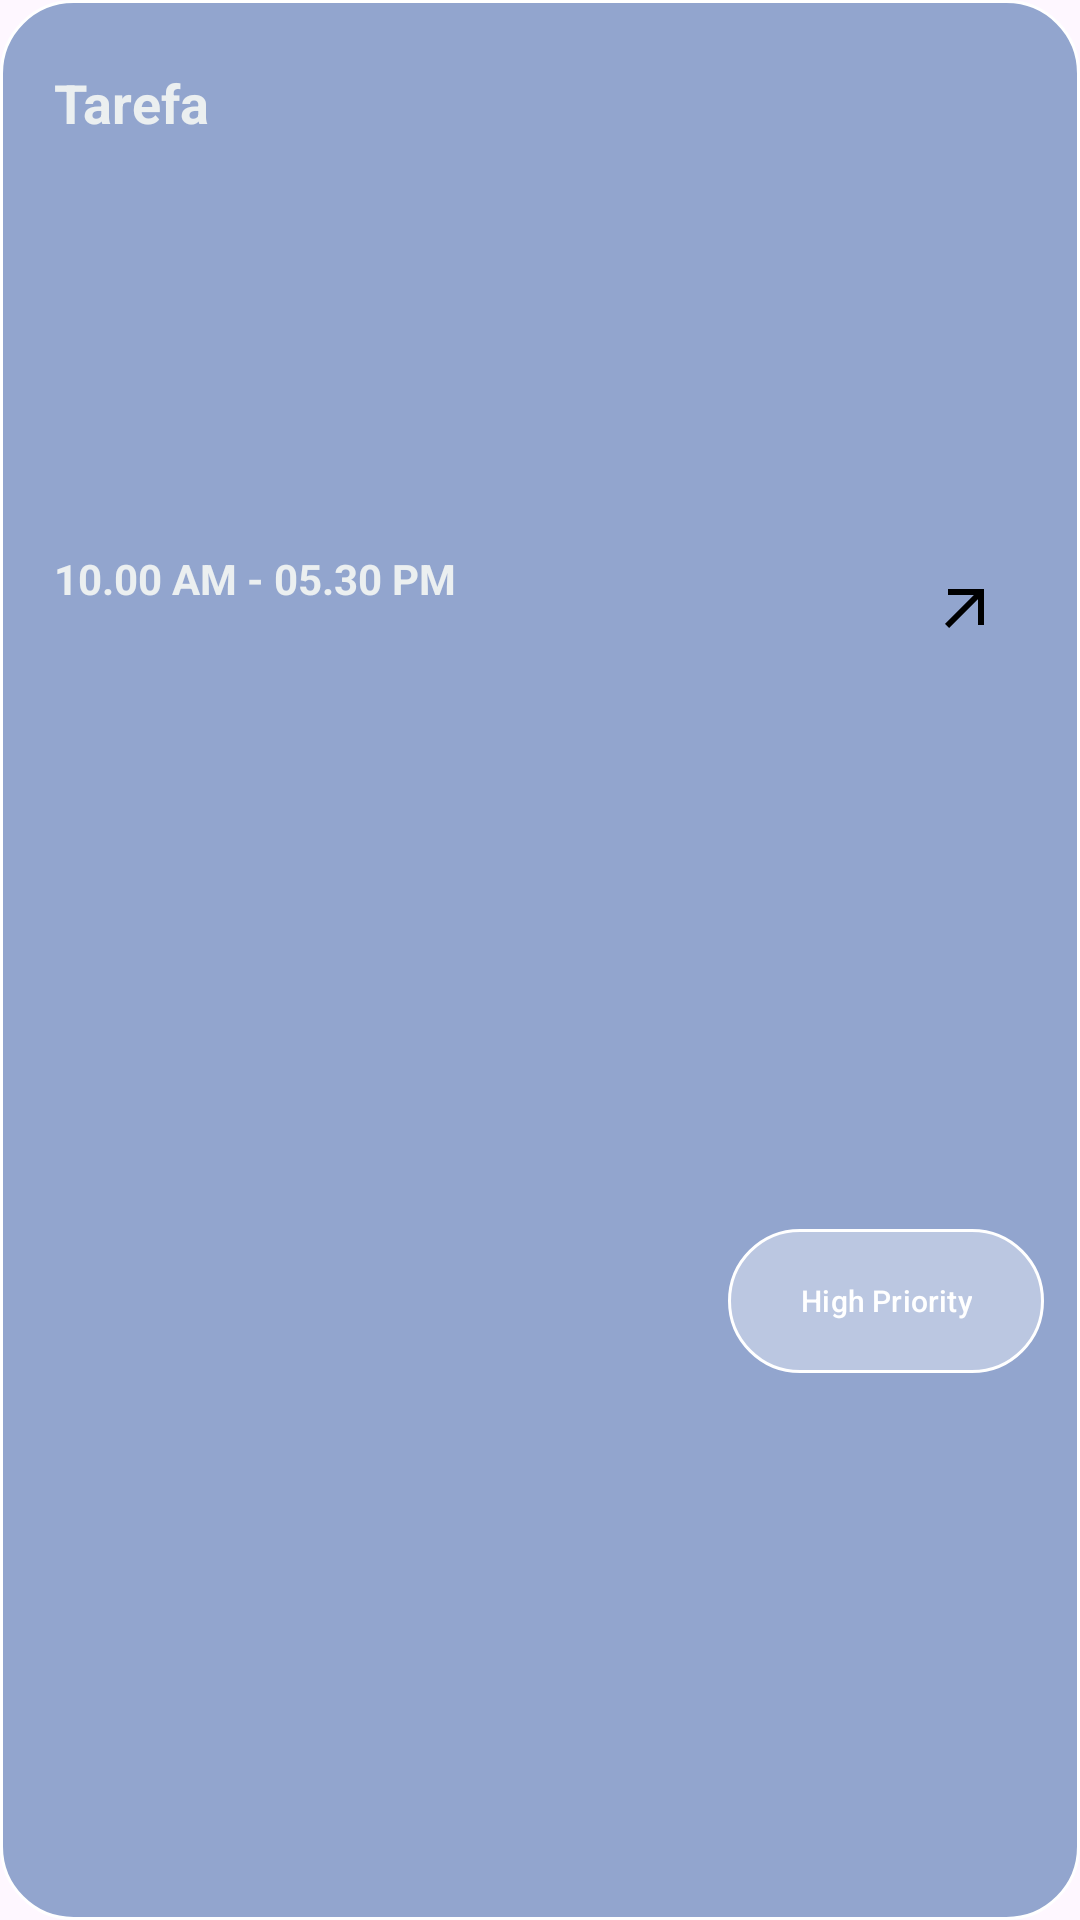

Icons on this 1080 x 1920 Android screen, each with the point to tap as (x=x, y=y):
Abrir tarefa: (x=964, y=608)
